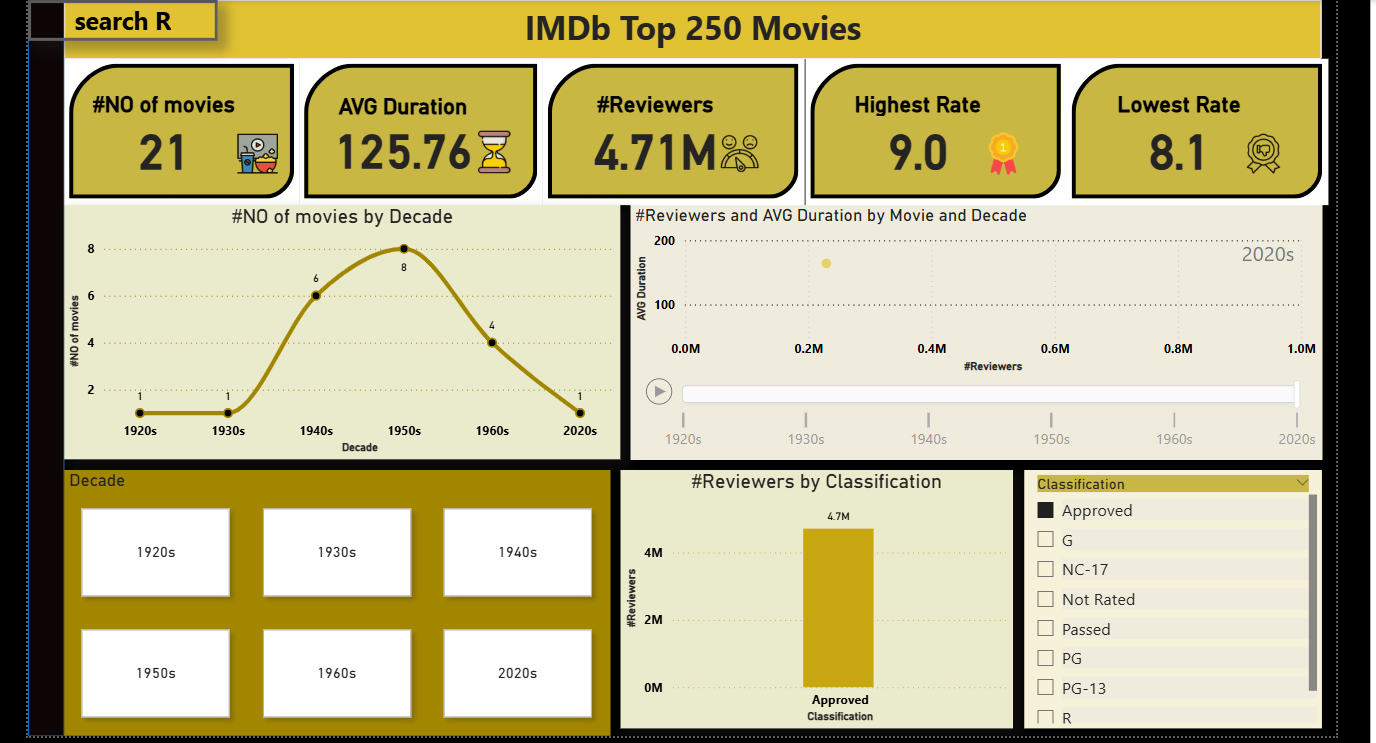

The dashboard page shown, as its layout file describes it:
{"tool":"powerbi","page":{"name":"Page 1","canvas":[1280,720],"ordinal":0},"visuals":[{"type":"shape","box":[0,0,35.7,720.4],"z":0},{"type":"cardVisual","fields":{"Data":["Dax measures.#NO of movies"]},"box":[35.7,57.1,230,142.9],"z":1000},{"type":"textbox","box":[35.7,0,1230,57.1],"z":2000},{"type":"cardVisual","fields":{"Data":["Dax measures.AVG Duration"]},"box":[265.7,57.1,238.6,142.9],"z":3000},{"type":"cardVisual","fields":{"Data":["Dax measures.#Reviewers"]},"box":[504.3,57.1,255.7,142.9],"z":4000},{"type":"cardVisual","fields":{"Data":["Dax measures.Highest Rate"]},"box":[760,57.1,255.7,142.9],"z":5000},{"type":"cardVisual","fields":{"Data":["Dax measures.Lowest Rate"]},"box":[1015.7,57.1,255.7,142.9],"z":6000},{"type":"lineChart","fields":{"Category":["movie ranking.Decade","movie ranking.Release Year"],"Y":["Dax measures.#NO of movies"]},"box":[35.7,200,544.3,248.6],"z":7000},{"type":"clusteredColumnChart","fields":{"Y":["Dax measures.#Reviewers"],"Category":["movie ranking.Classification"]},"box":[580,460,383.8,252.5],"z":8000},{"type":"advancedSlicerVisual","fields":{"Values":["movie ranking.Decade"]},"box":[35.7,460,534.3,260],"z":9000},{"type":"scatterChart","fields":{"Category":["movie ranking.Movie"],"X":["Dax measures.#Reviewers"],"Y":["Dax measures.AVG Duration"],"Play":["movie ranking.Decade"]},"box":[590,200,676.2,248.8],"z":10000},{"type":"slicer","fields":{"Values":["movie ranking.Classification"]},"box":[974.3,460,291.4,252.9],"z":11000},{"type":"actionButton","box":[0,0,185.7,40],"z":12000}]}

Visuals, with their boxes in screenshot pixels (x1, y1, x2, y2):
shape: {"left": 29, "top": 0, "right": 65, "bottom": 732}
cardVisual - Dax measures.#NO of movies: {"left": 65, "top": 58, "right": 299, "bottom": 203}
textbox: {"left": 65, "top": 0, "right": 1315, "bottom": 58}
cardVisual - Dax measures.AVG Duration: {"left": 299, "top": 58, "right": 541, "bottom": 203}
cardVisual - Dax measures.#Reviewers: {"left": 541, "top": 58, "right": 801, "bottom": 203}
cardVisual - Dax measures.Highest Rate: {"left": 801, "top": 58, "right": 1061, "bottom": 203}
cardVisual - Dax measures.Lowest Rate: {"left": 1061, "top": 58, "right": 1320, "bottom": 203}
lineChart - movie ranking.Decade x movie ranking.Release Year: {"left": 65, "top": 203, "right": 618, "bottom": 456}
clusteredColumnChart - Dax measures.#Reviewers x movie ranking.Classification: {"left": 618, "top": 467, "right": 1008, "bottom": 724}
advancedSlicerVisual - movie ranking.Decade: {"left": 65, "top": 467, "right": 608, "bottom": 731}
scatterChart - movie ranking.Movie x Dax measures.#Reviewers: {"left": 628, "top": 203, "right": 1315, "bottom": 456}
slicer - movie ranking.Classification: {"left": 1019, "top": 467, "right": 1315, "bottom": 724}
actionButton: {"left": 29, "top": 0, "right": 217, "bottom": 41}
